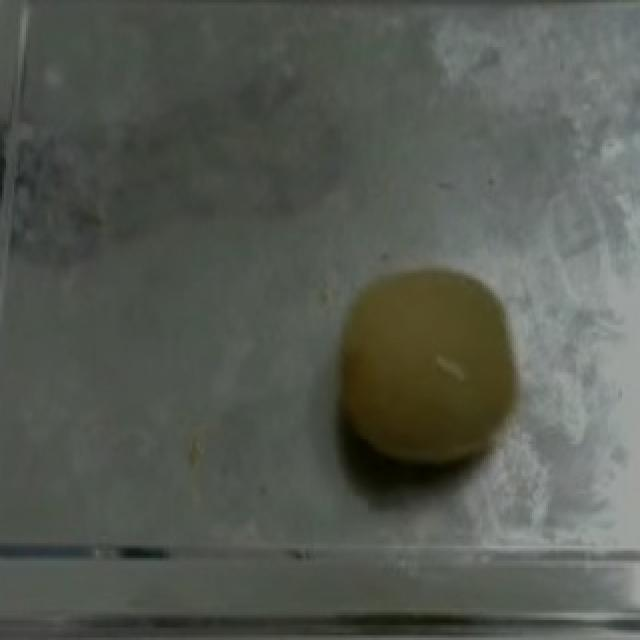Fruit: (322, 258, 528, 481)
